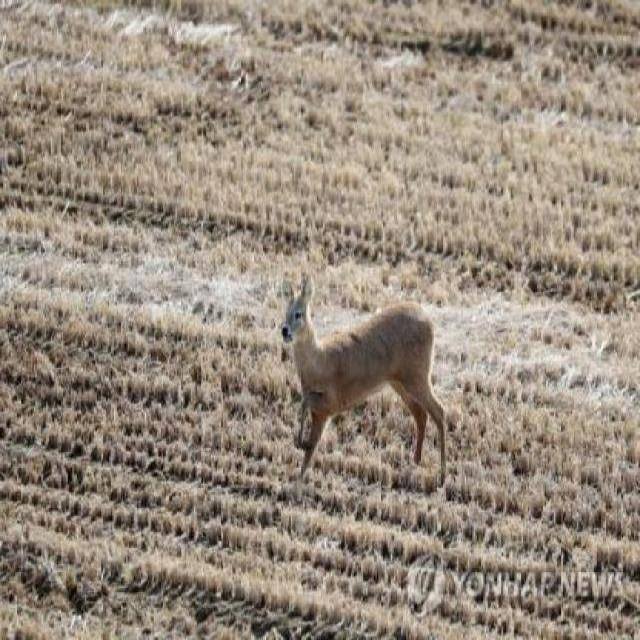deer: (278, 264, 460, 492)
